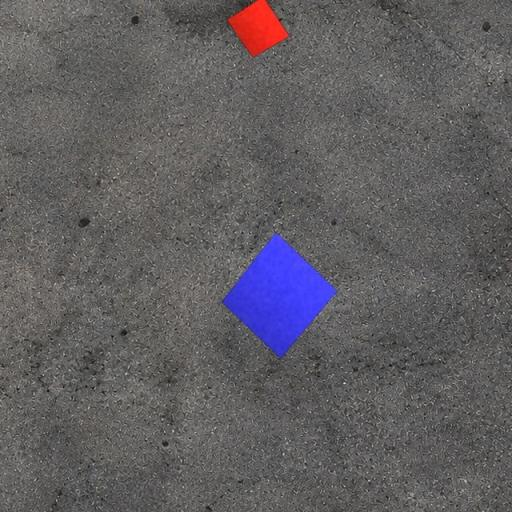BLUE_SQUARE: (221, 231, 338, 359)
RED_SQUARE: (226, 0, 290, 58)
